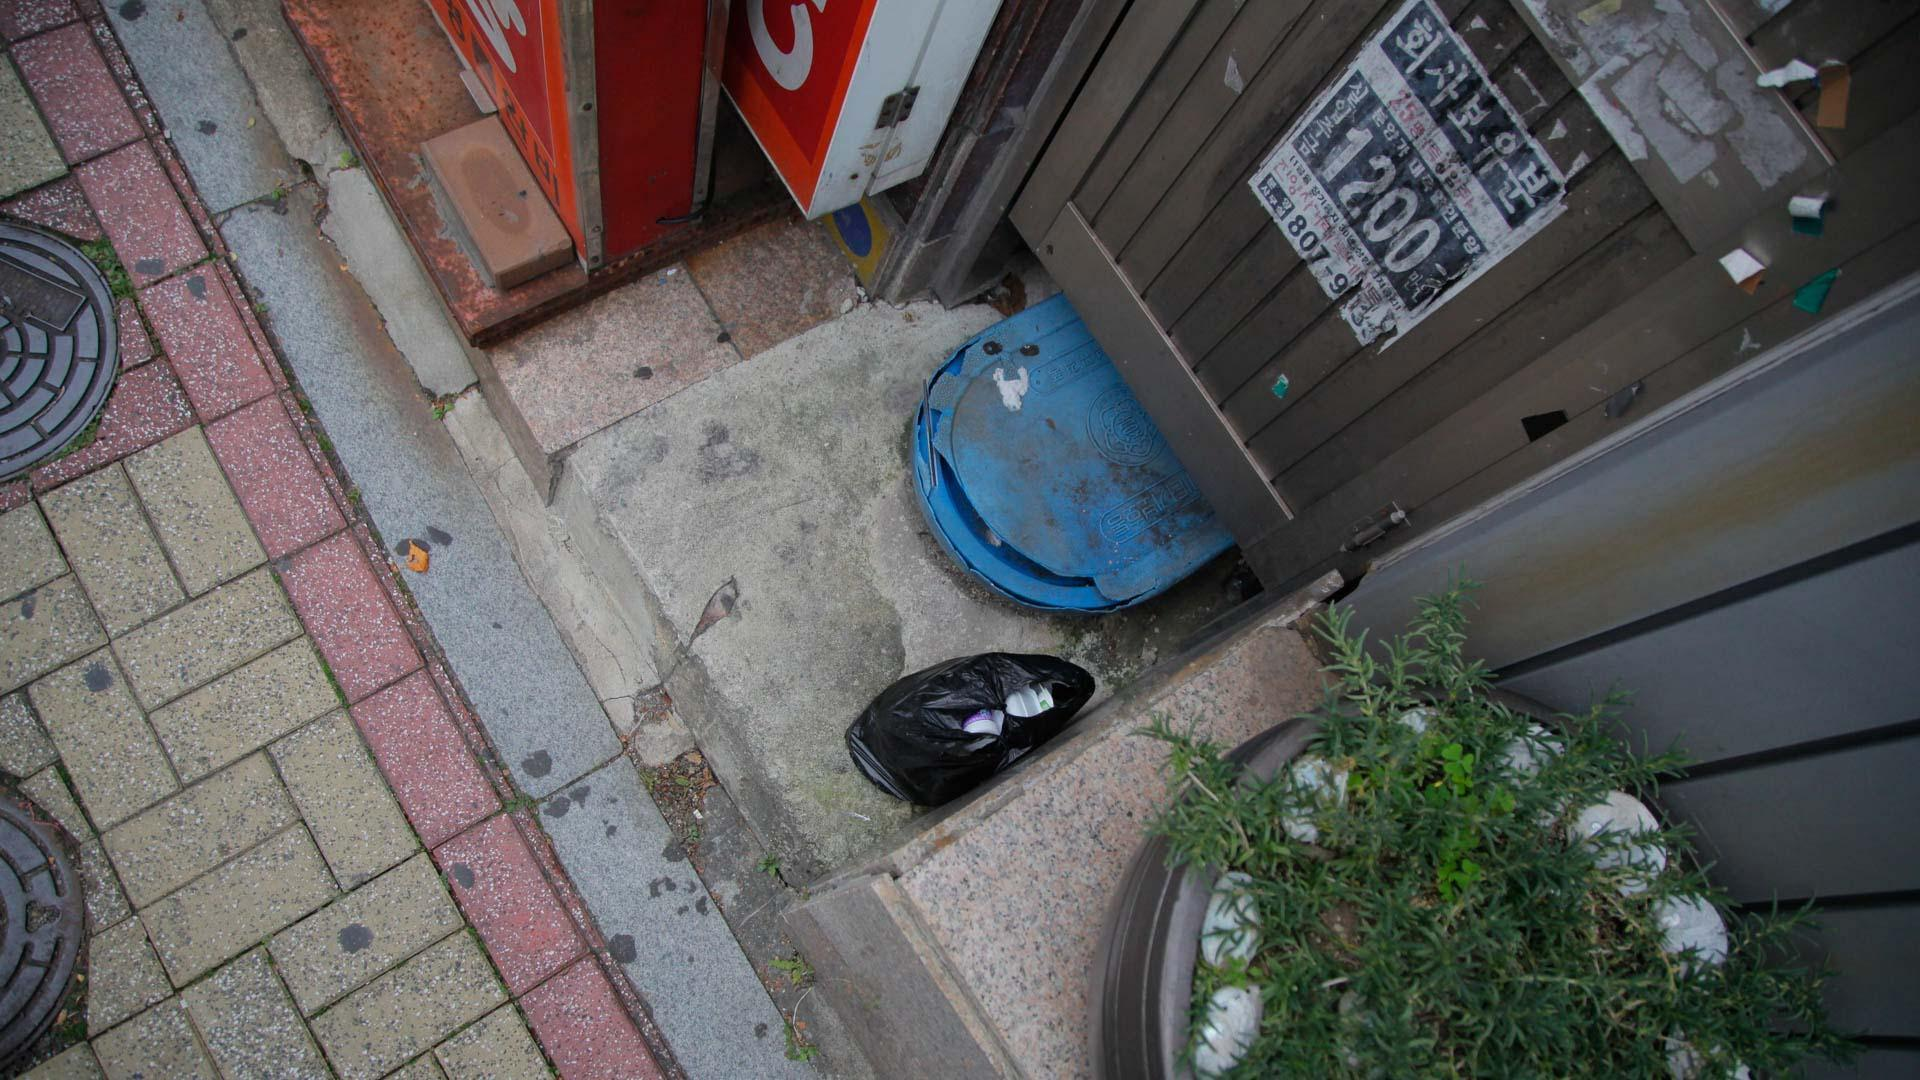black_bag: (829, 638, 1101, 811)
